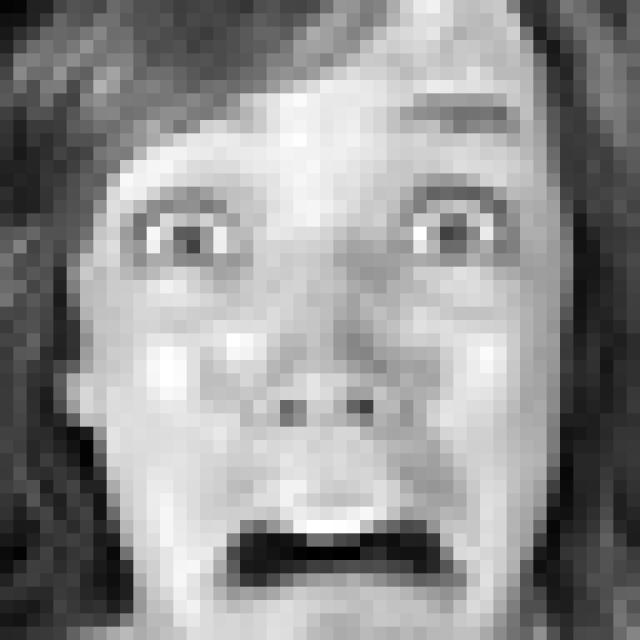fear: (108, 83, 530, 640)
